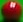red: (0, 0, 23, 22)
